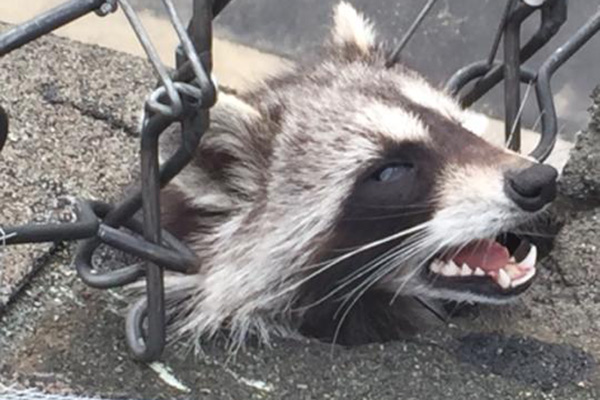raccoon: (168, 14, 570, 365)
